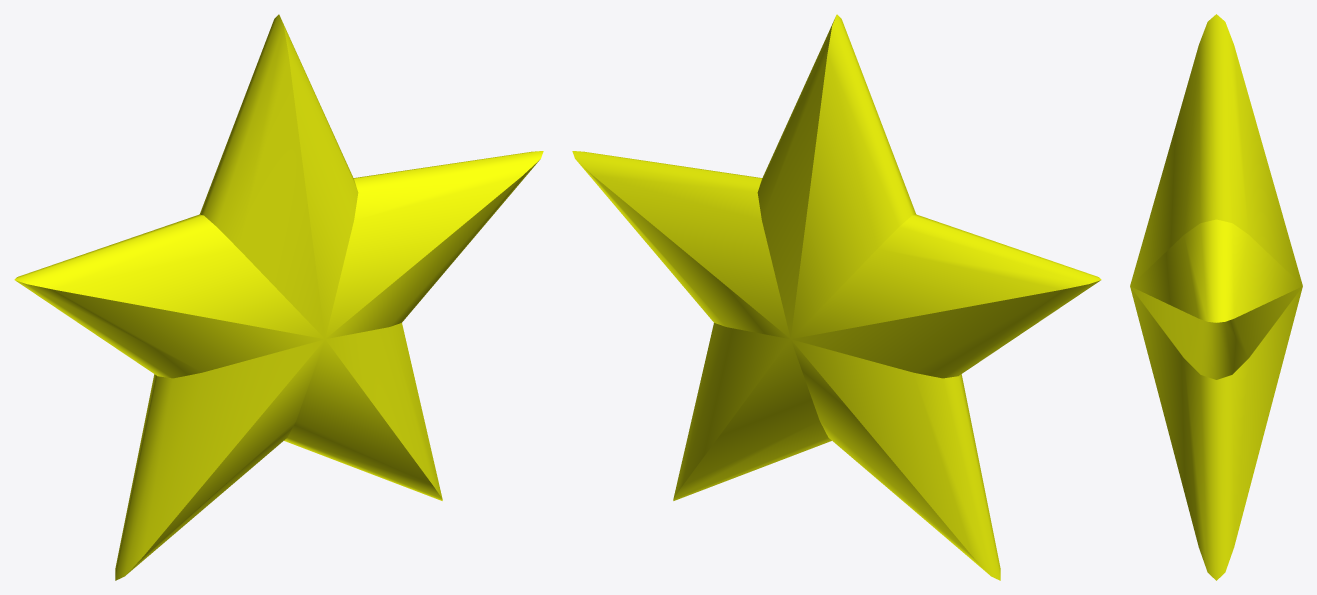
File: Star_v1.fbx
The picture shows the model from 3 angles, left to right: view 1: azimuth 30°, elevation 25°; view 2: azimuth 150°, elevation 25°; view 3: azimuth 270°, elevation 25°; orthographic projection. The views are drawn at different scales.
Parts seen in each view (by area): view 1: Star; view 2: Star; view 3: Star.
Part boxes in pixels (x1,y1,x2,y2): Star: (14, 14, 543, 580); Star: (572, 14, 1101, 580); Star: (1130, 14, 1302, 580).
Size of the model in its own units: 495 by 471 by 150.
